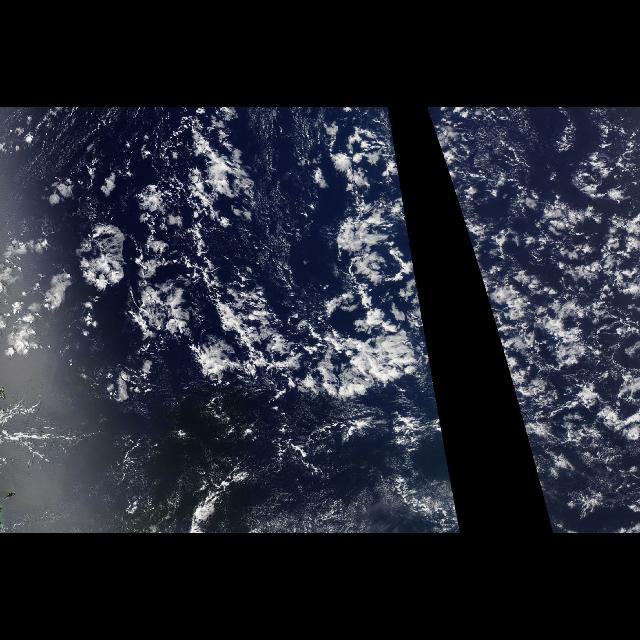Fish: (194, 253, 438, 413)
Flower: (2, 123, 428, 404)
Sugar: (75, 422, 451, 532)
